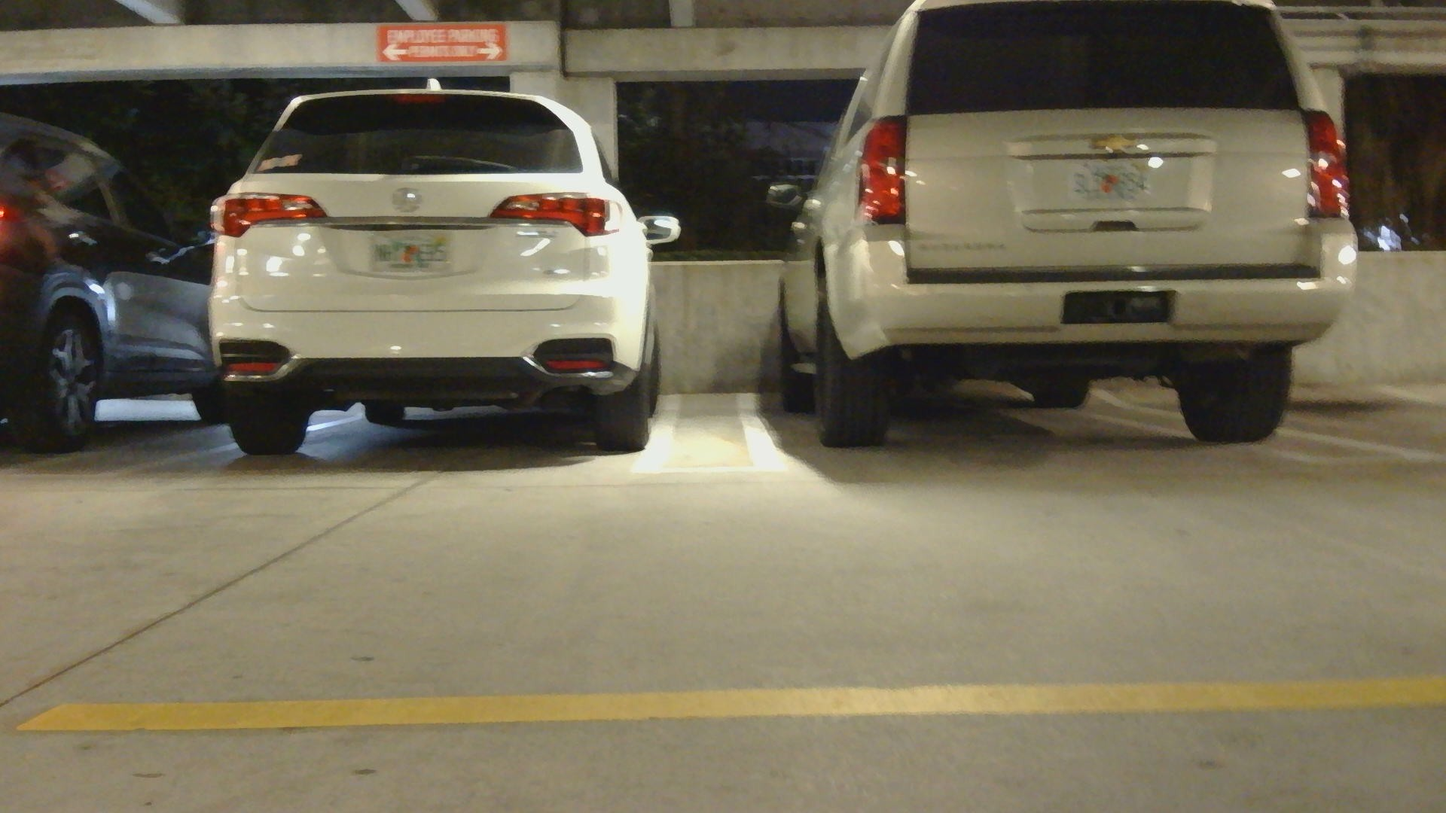empty_spot: (1341, 318, 1446, 434)
occupied_spot: (723, 0, 1380, 473), (85, 71, 694, 487), (0, 96, 223, 476)
